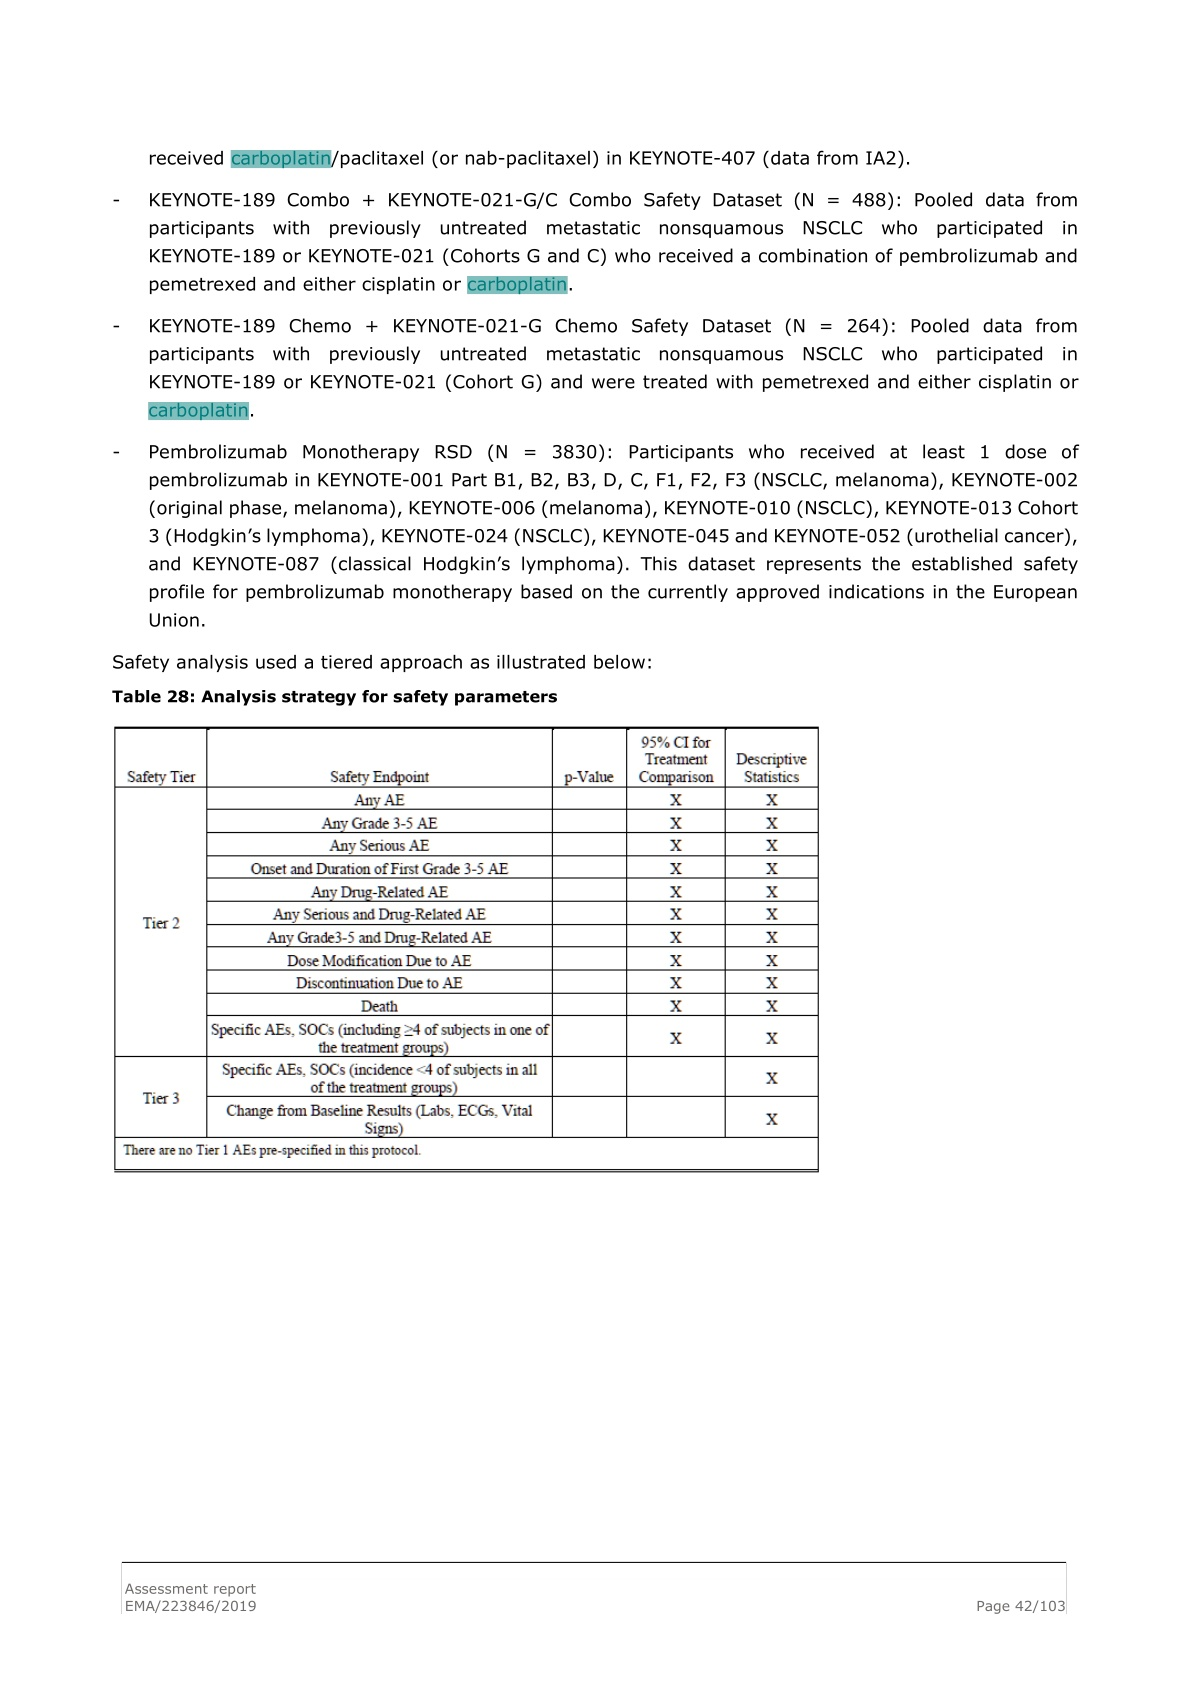merged_cells: (113, 725, 820, 1173)
